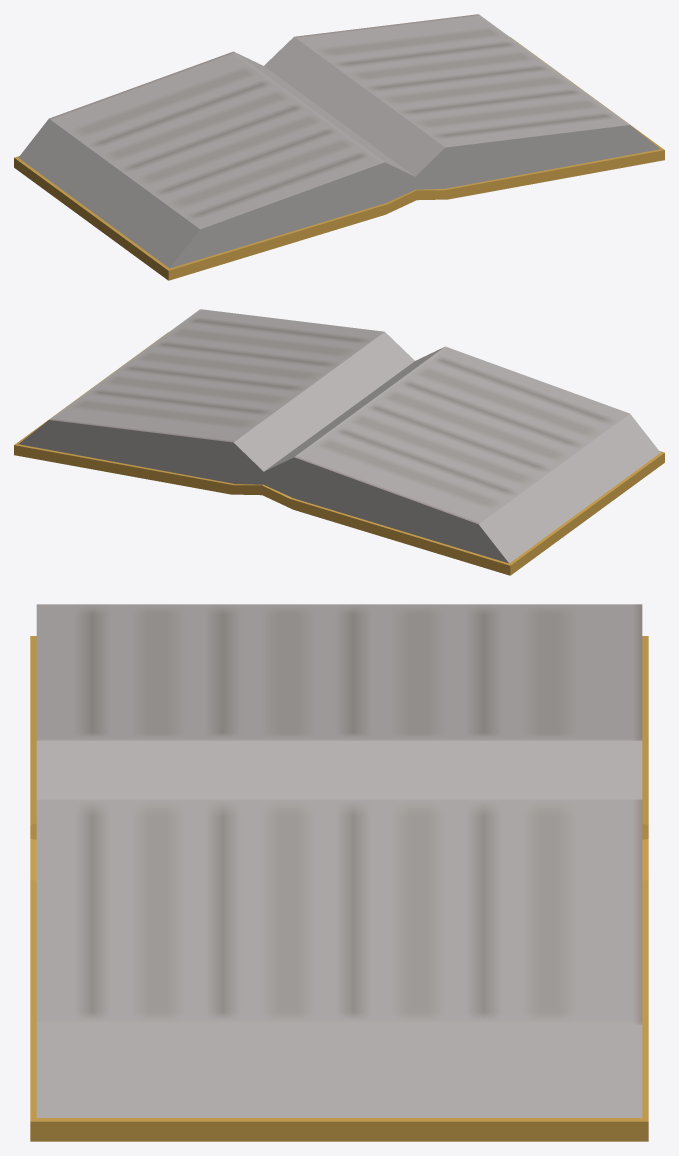
File: SM_Prop_Book_Open_01.glb
The picture shows the model from 3 angles, top to bottom: view 1: azimuth 30°, elevation 25°; view 2: azimuth 150°, elevation 25°; view 3: azimuth 270°, elevation 25°; orthographic projection. The views are drawn at different scales.
Parts seen in each view (by area): view 1: SM_Prop_Book_Open_01; view 2: SM_Prop_Book_Open_01; view 3: SM_Prop_Book_Open_01.
Boxes of the visible parts, left/top/right/bottom form: SM_Prop_Book_Open_01: left=14, top=14, right=664, bottom=280; SM_Prop_Book_Open_01: left=14, top=309, right=664, bottom=575; SM_Prop_Book_Open_01: left=30, top=604, right=648, bottom=1141.
Size of the model in its own units: 0.5014 by 0.0624 by 0.2704.
Materials: 1 (1 with a texture image).
